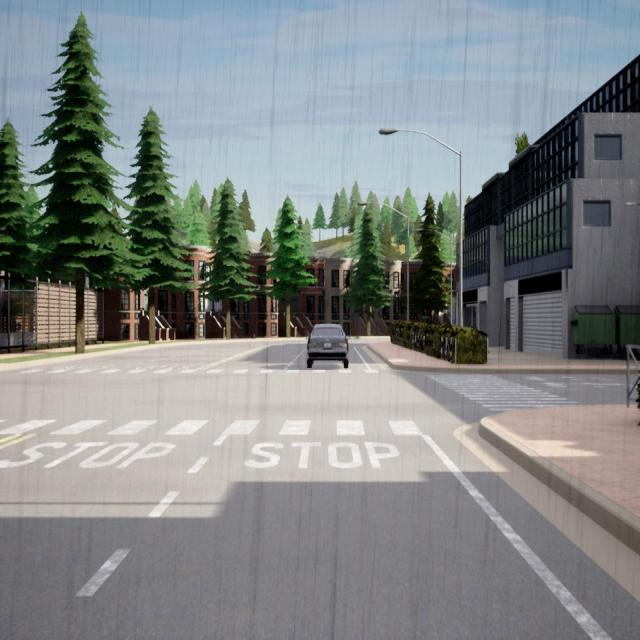Vehicle: (306, 324, 348, 368)
